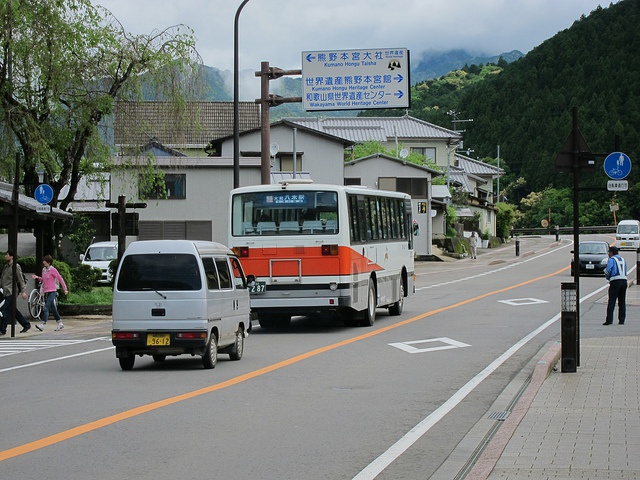non-vehicle: (28, 289, 41, 319), (22, 273, 27, 286)
